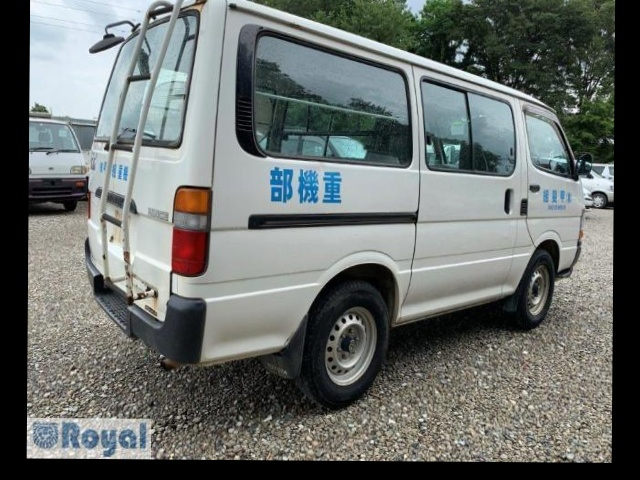van: (87, 0, 588, 393)
